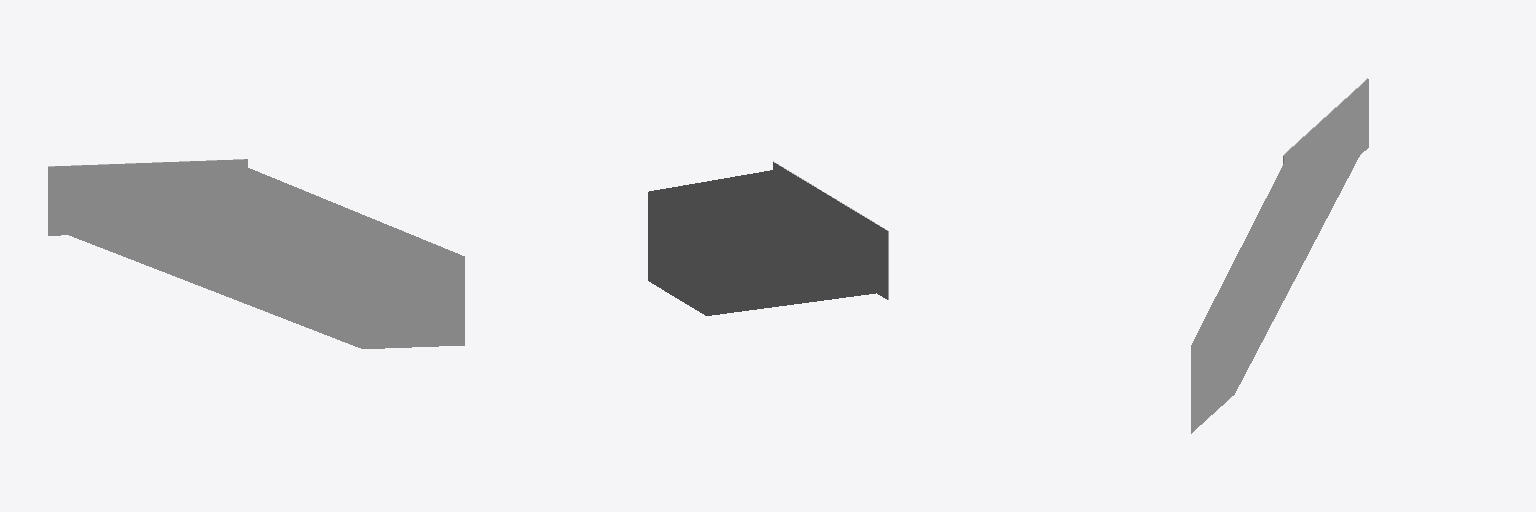
The model's file is Bulletin board.obj.
The picture shows the model from 3 angles: view 1: azimuth 30°, elevation 25°; view 2: azimuth 150°, elevation 25°; view 3: azimuth 270°, elevation 25°; orthographic projection.
Parts seen in each view (by area): view 1: Box001; view 2: Box001, Box002; view 3: Box001, Box002.
Part boxes in pixels (left/top/right/bottom): Box001: left=48, top=159, right=464, bottom=348; Box001: left=648, top=161, right=887, bottom=315; Box002: left=773, top=163, right=888, bottom=299; Box001: left=1191, top=79, right=1368, bottom=433; Box002: left=1283, top=78, right=1368, bottom=217.
Size of the model in its own units: 382879 by 216363 by 178345.